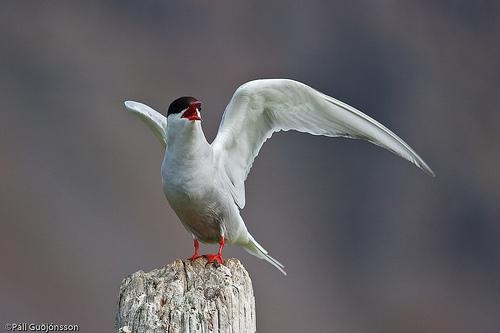bird: (117, 75, 439, 270)
